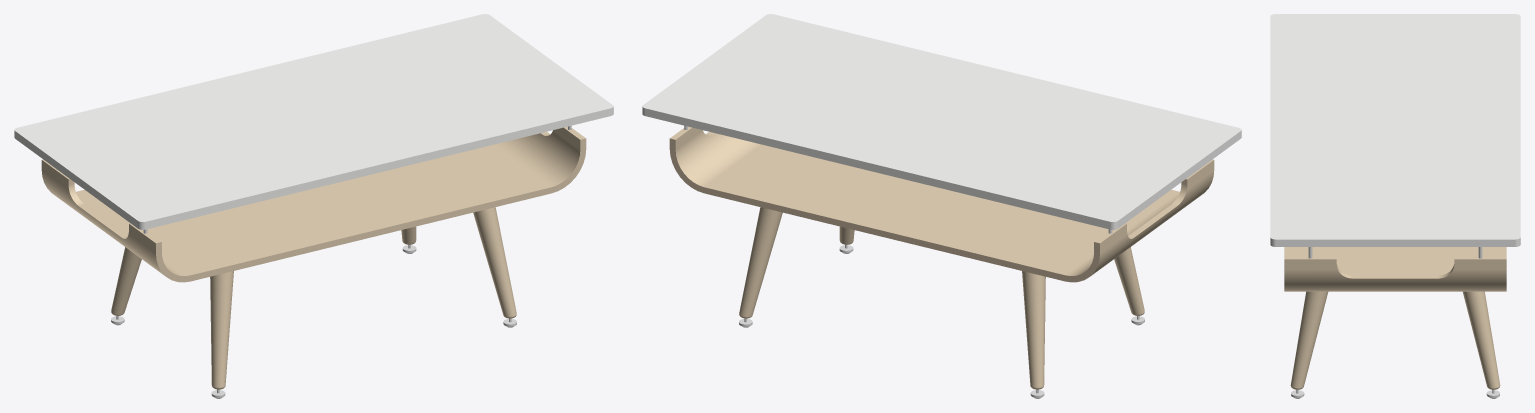
Rendered from 392_センターテーブル.glb.
3 renders of one model, left to right at view 1: azimuth 30°, elevation 25°; view 2: azimuth 150°, elevation 25°; view 3: azimuth 270°, elevation 25°, orthographic. The views are drawn at different scales.
Parts seen in each view (by area): view 1: 392_センターテーブル; view 2: 392_センターテーブル; view 3: 392_センターテーブル.
Part boxes in pixels (x1,y1,x2,y2): 392_センターテーブル: (14,14,613,398); 392_センターテーブル: (642,14,1241,398); 392_センターテーブル: (1270,14,1520,398).
Size of the model in its own units: 0.96 by 0.4 by 0.45.
